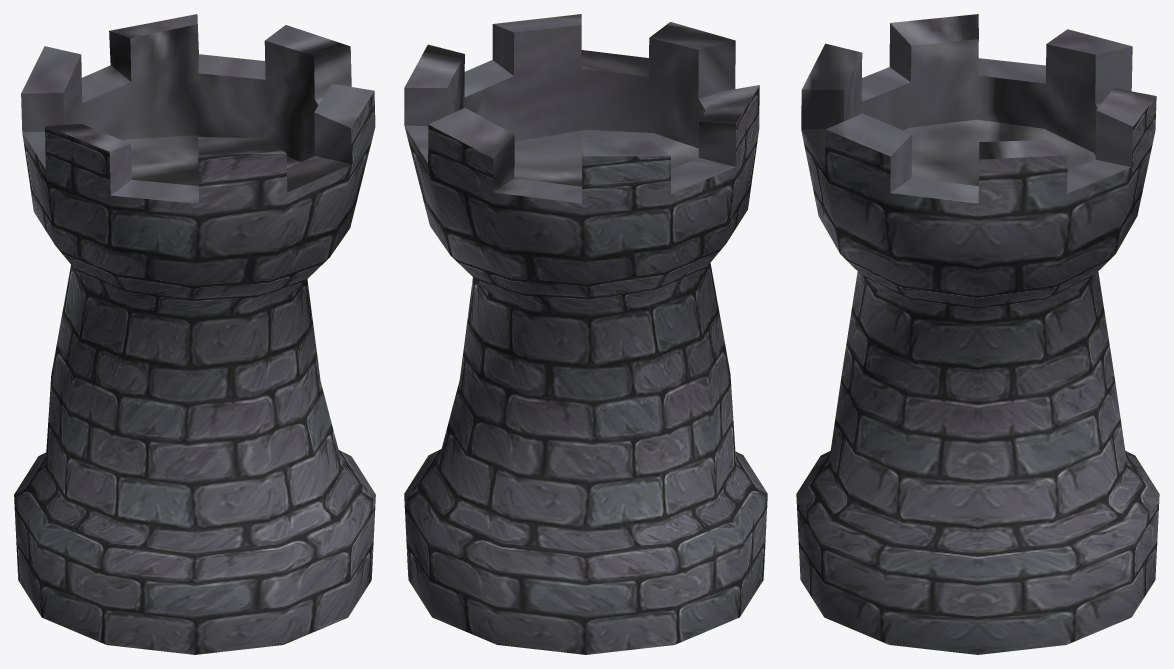
File: e_castle_ext_guard_tower.fbx
3 views of the same model, side by side, from view 1: azimuth 30°, elevation 25°; view 2: azimuth 150°, elevation 25°; view 3: azimuth 270°, elevation 25° (orthographic).
Visible parts, largest first — view 1: exterior:e_castle_ext_guard_tower; view 2: exterior:e_castle_ext_guard_tower; view 3: exterior:e_castle_ext_guard_tower.
Part boxes in pixels (x1=…): exterior:e_castle_ext_guard_tower: x1=14, y1=14, x2=375, y2=654; exterior:e_castle_ext_guard_tower: x1=404, y1=14, x2=767, y2=654; exterior:e_castle_ext_guard_tower: x1=796, y1=14, x2=1159, y2=654.
Bounding box in the file's own units: 8.15 × 12.39 × 8.14.
